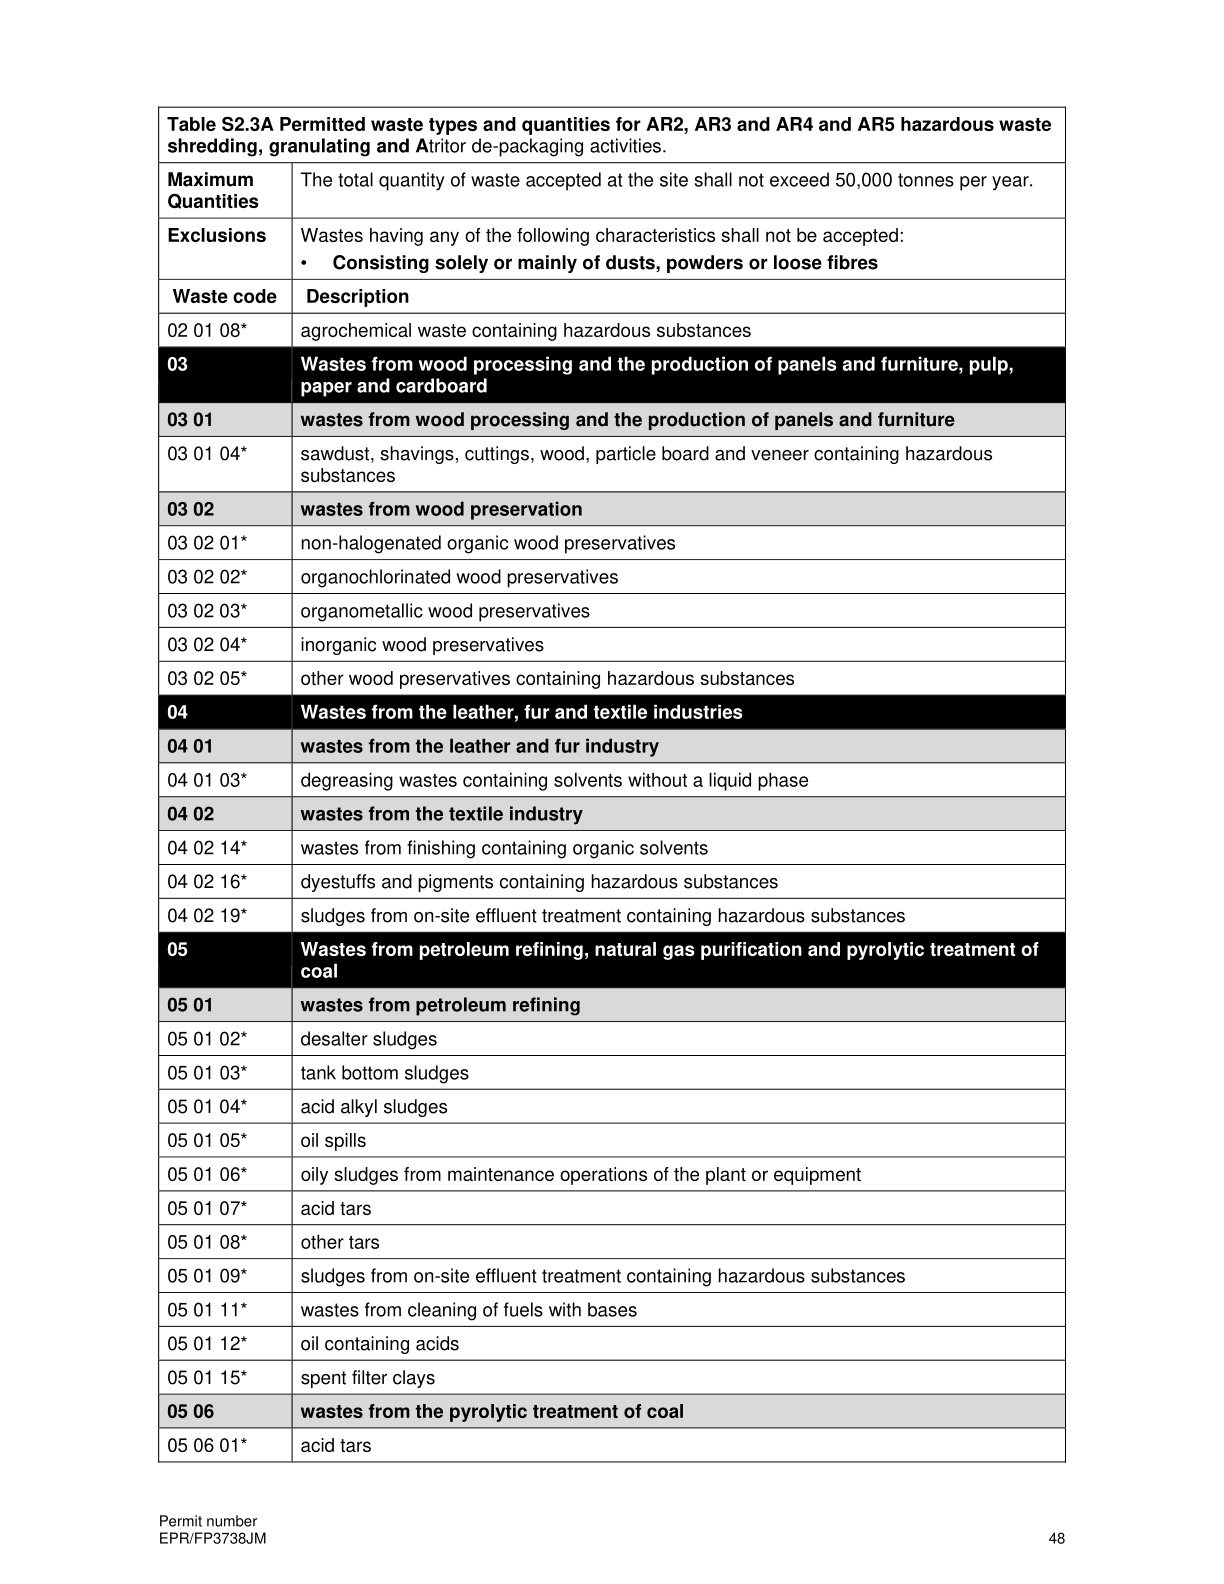merged_cells: (148, 103, 1080, 1467)
